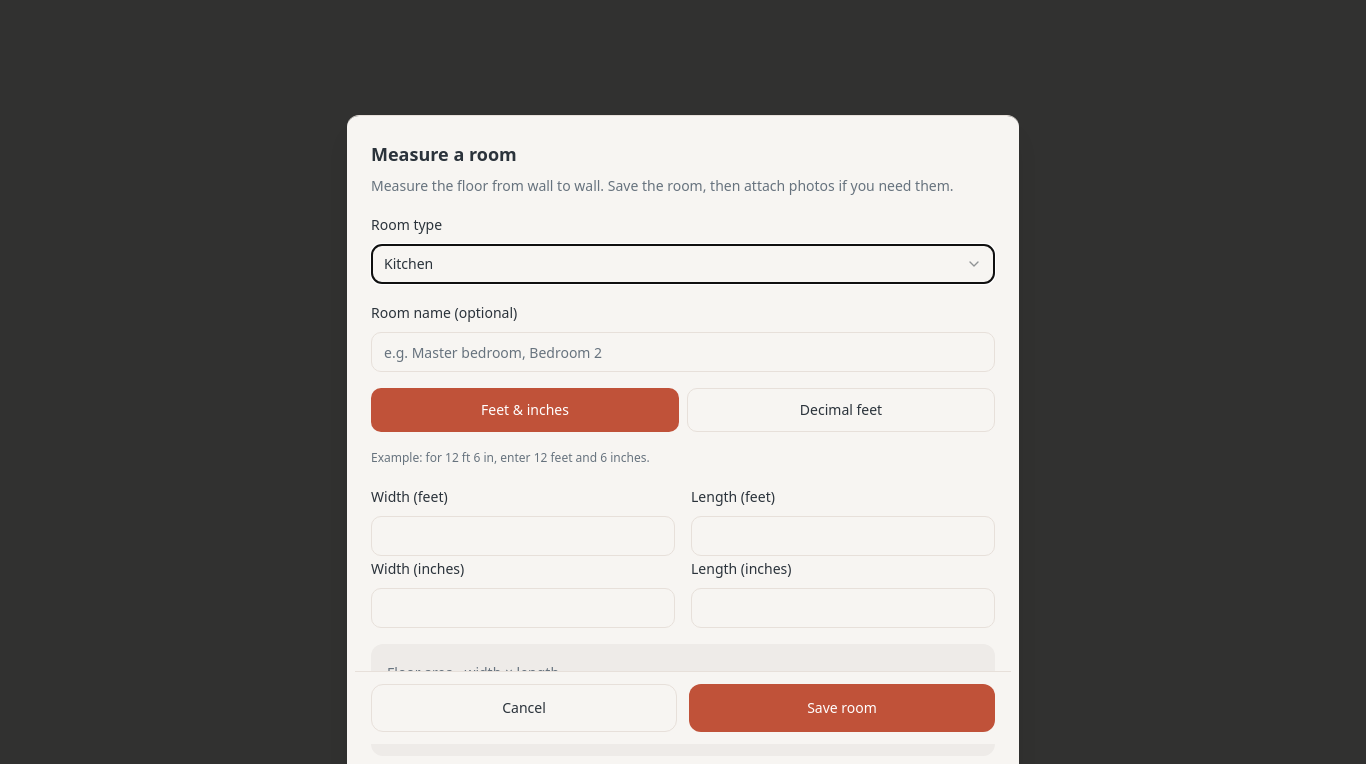
Test case: does not save empty or invalid dimensions
Click the button "Save room" at (842, 708), box [689,684,995,732]
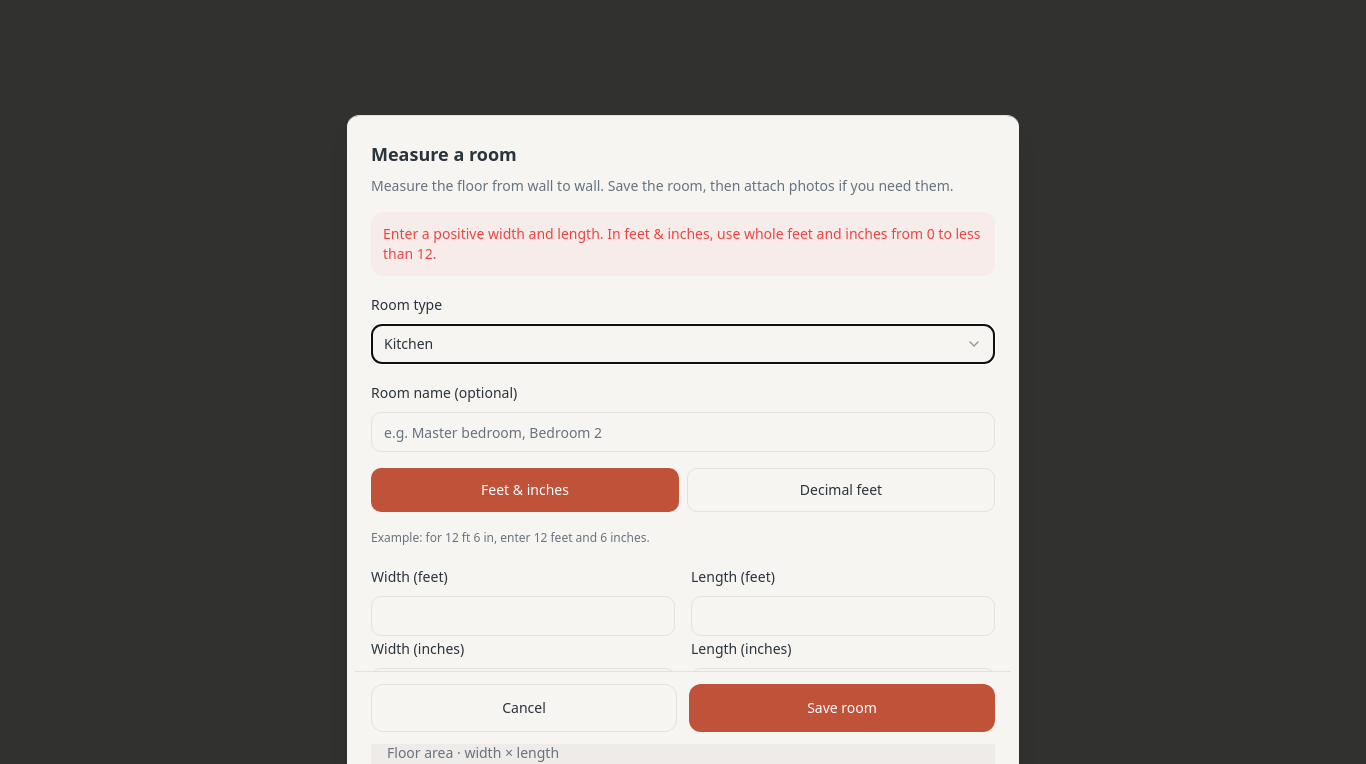
Check: the message shows "positive width and length", box [383,224,980,263]
